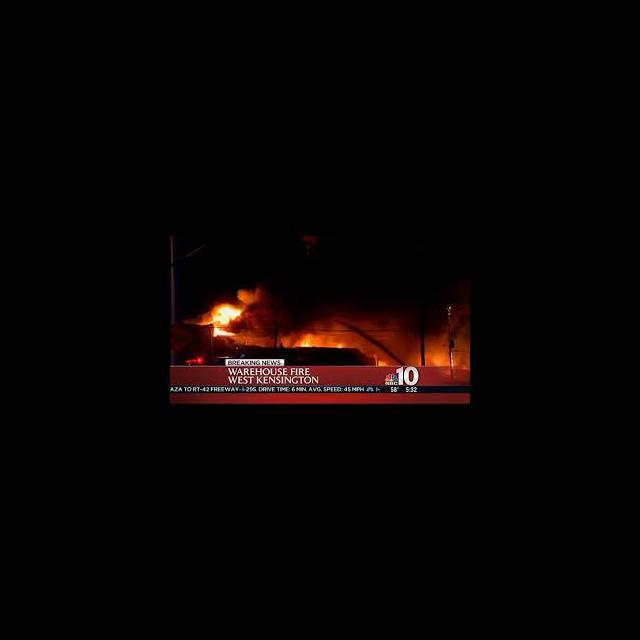Fire: (182, 287, 469, 366)
Smoke: (232, 283, 464, 358)
